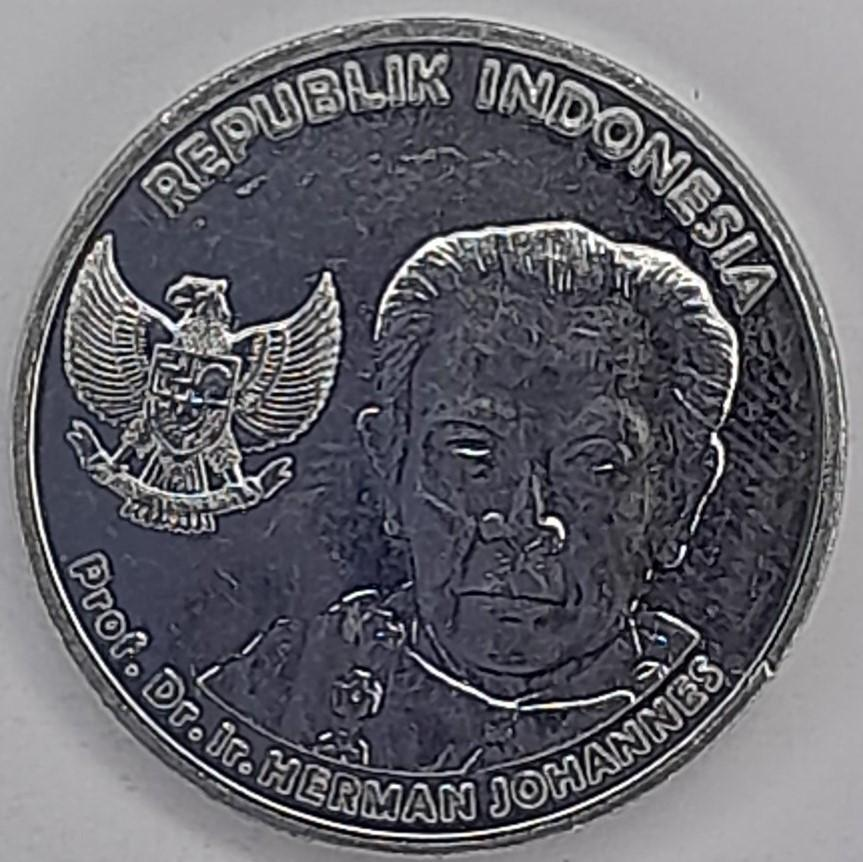coin_100_e2016: (4, 9, 853, 856)
